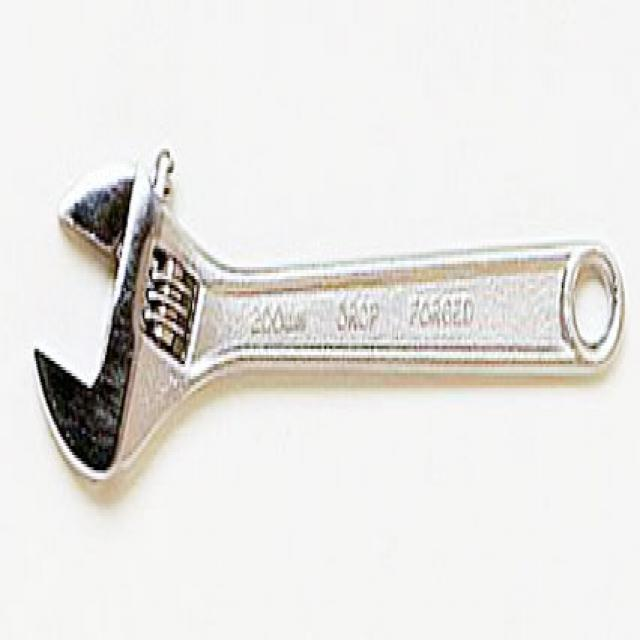wrench: (26, 131, 626, 507)
